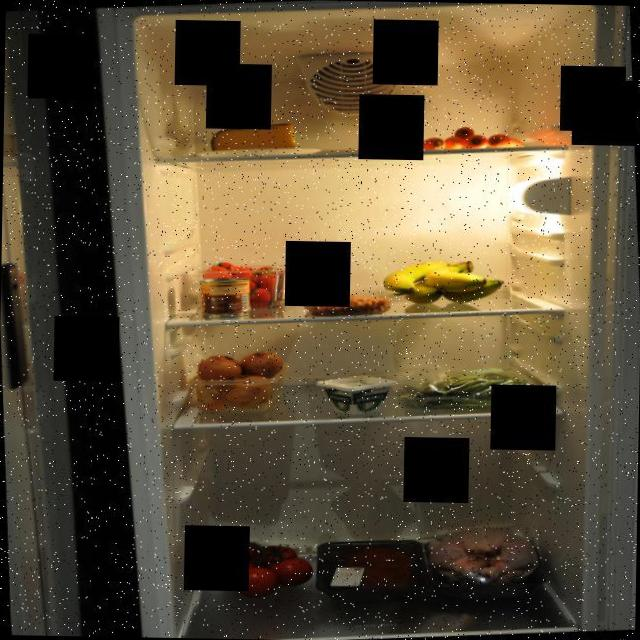Carne pollo: (423, 522, 550, 602)
Carne vacuno: (338, 544, 416, 595)
Cebolla: (195, 348, 285, 410)
Gambas/Langostinos: (305, 289, 391, 318)
Plátano: (376, 252, 504, 310)
Queso: (206, 120, 304, 158)
Tomate: (212, 528, 316, 600)
Zanahoria: (367, 118, 528, 160)
